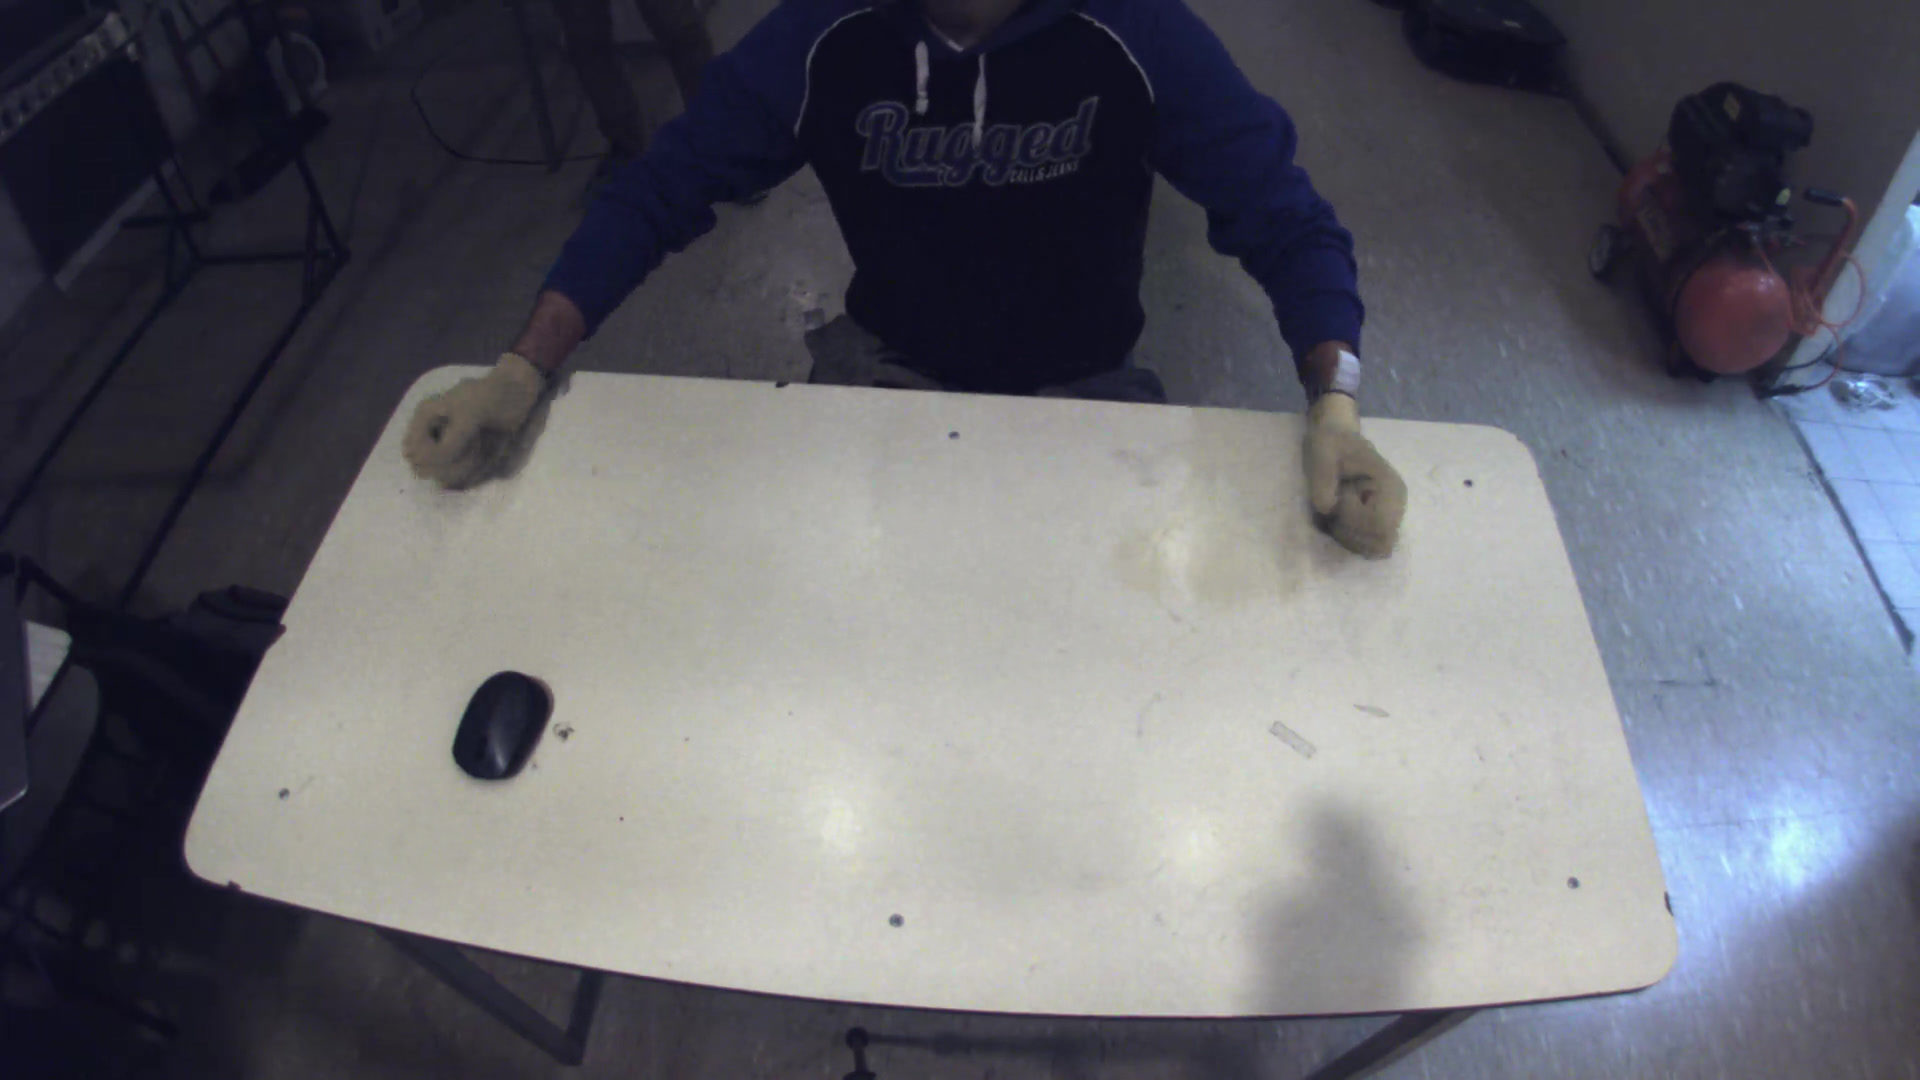hand: (390, 340, 553, 491), (1302, 376, 1420, 563)
